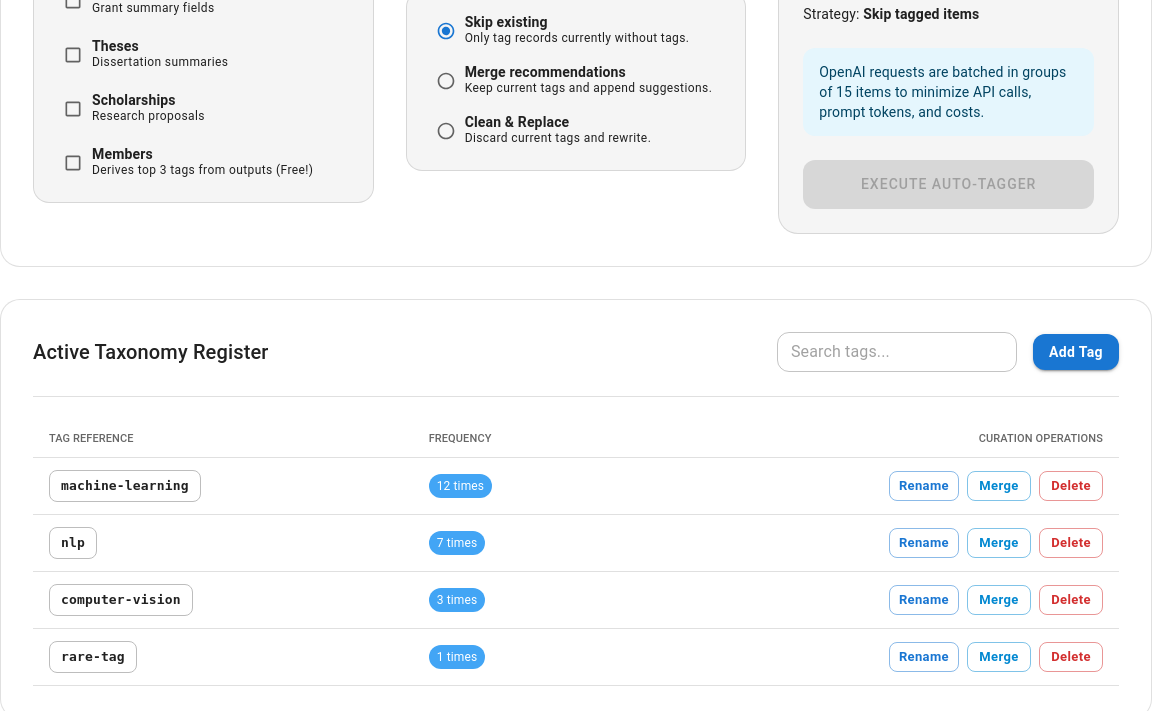
Test: TagsCurationClient › filters tag list based on search input
(page scrolled)
Type "nlp" into the field with placeholder "Search tags..." at coordinates (897, 352), box [777, 332, 1017, 372]
(page scrolled)
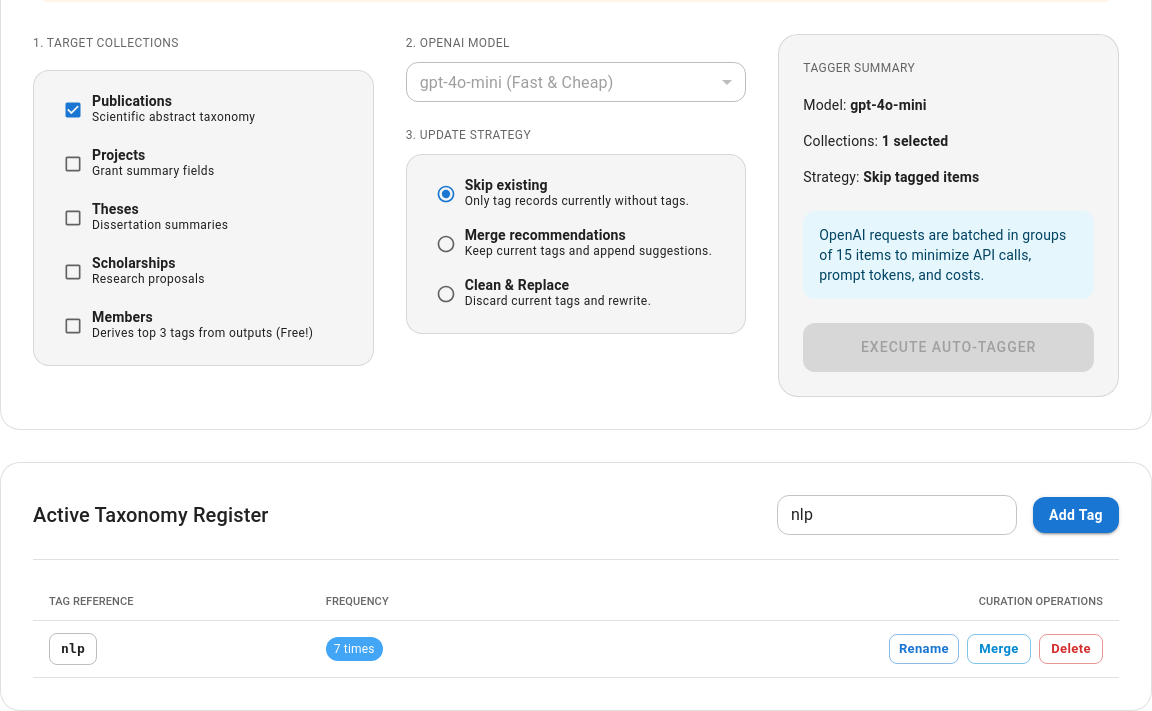
Expected: the text "nlp" is shown, [61, 641, 85, 656]
Now the text "machine-learning" is gone
